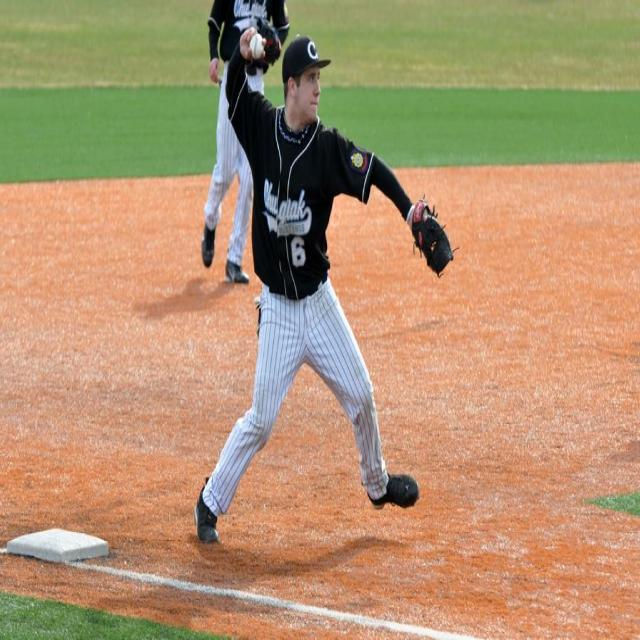Face: (291, 57, 327, 123)
